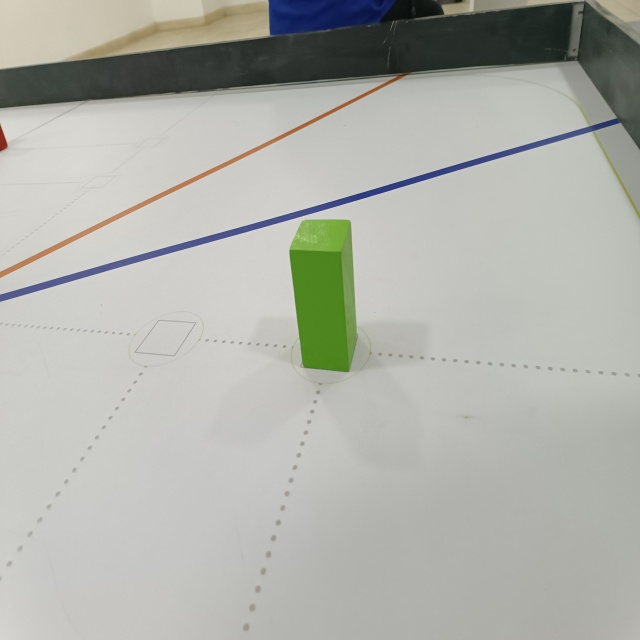blue line: (0, 117, 630, 305)
green rectangular prism: (284, 212, 361, 378)
orange line: (0, 69, 415, 282)
